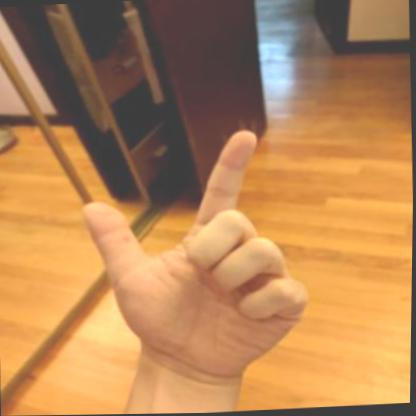L: (63, 113, 337, 388)
